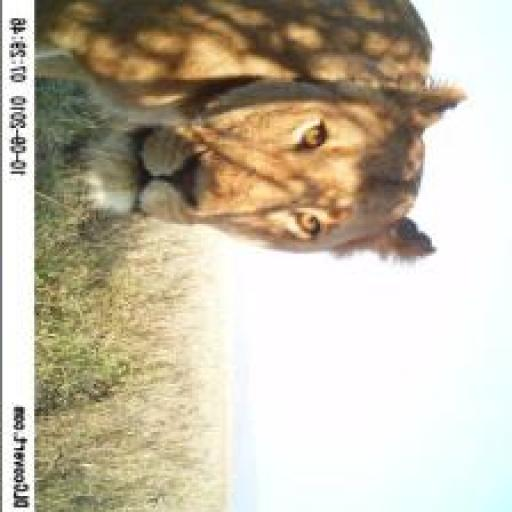lion: (20, 2, 484, 318)
